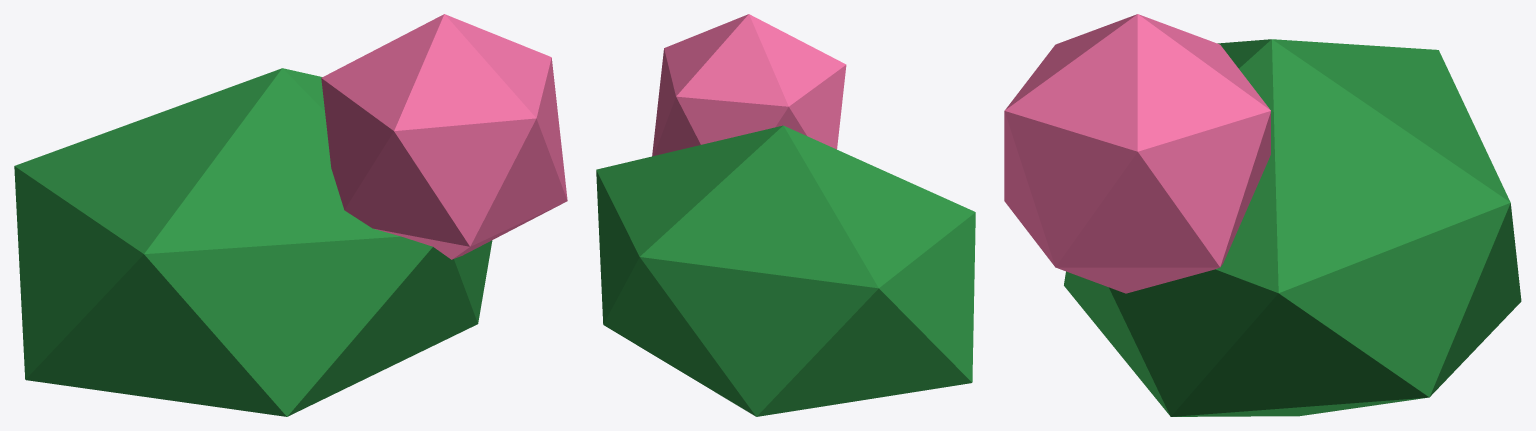
The model's file is tropical_bush.glb.
3 renders of one model, left to right at view 1: azimuth 30°, elevation 25°; view 2: azimuth 150°, elevation 25°; view 3: azimuth 270°, elevation 25°, orthographic. The views are drawn at different scales.
Visible parts, largest first — view 1: tropical_bush; view 2: tropical_bush; view 3: tropical_bush.
Part boxes in pixels (box(x1,y1,x2,y2)): tropical_bush: box(14, 14, 567, 416); tropical_bush: box(596, 14, 975, 416); tropical_bush: box(1004, 14, 1521, 416).
Bounding box in the file's own units: 1.2 × 0.9805 × 0.9896.
